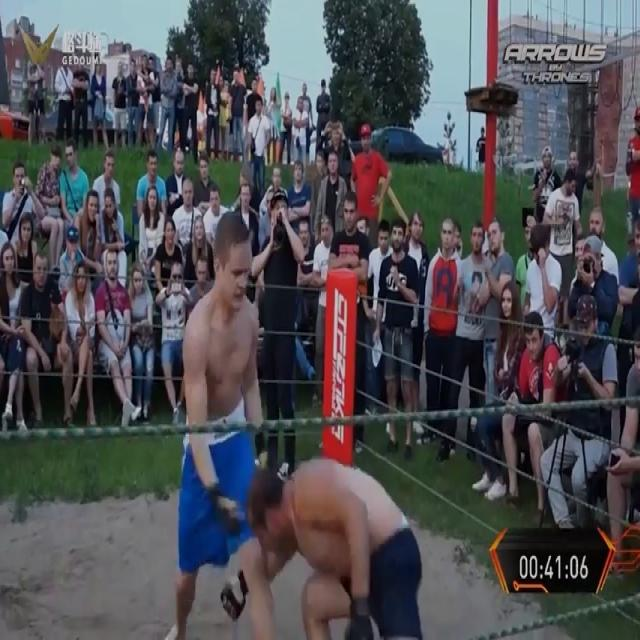fight: (168, 208, 434, 638)
non-fight: (253, 189, 301, 481)
